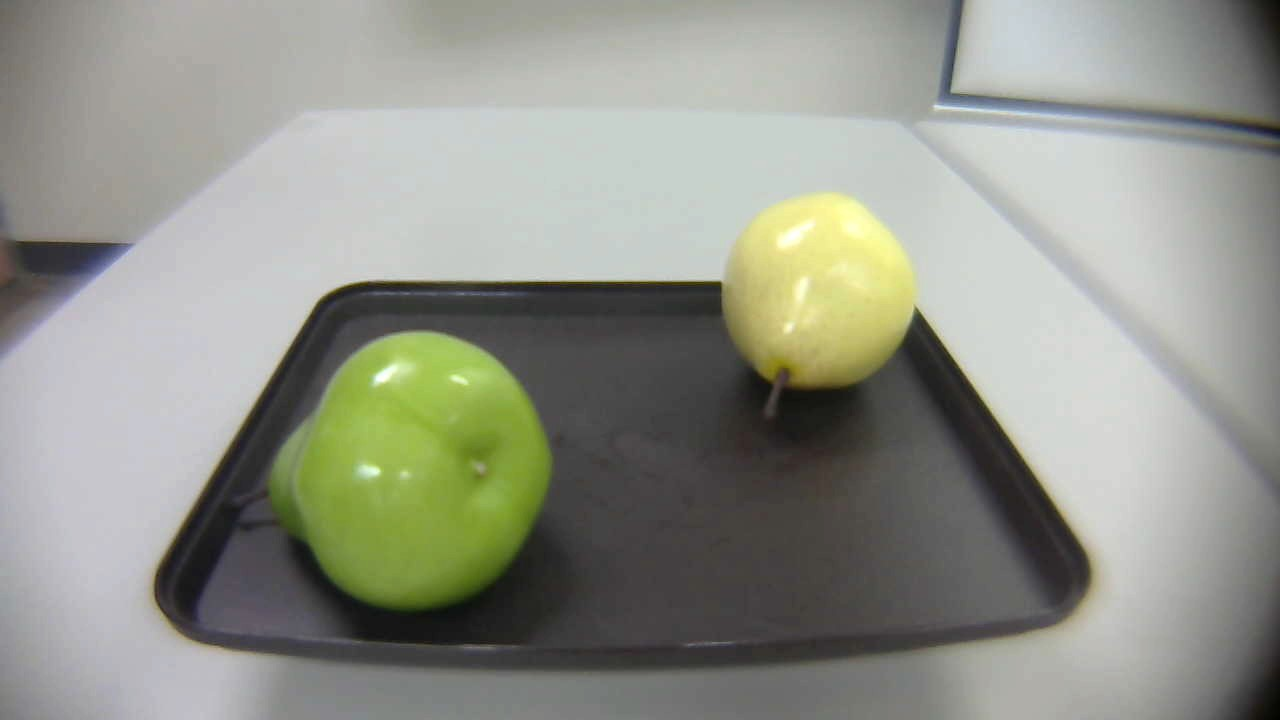green pear: (193, 324, 554, 611)
western pear: (712, 182, 915, 430)
